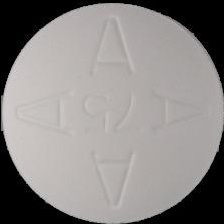63629-3359: (0, 0, 224, 224)
